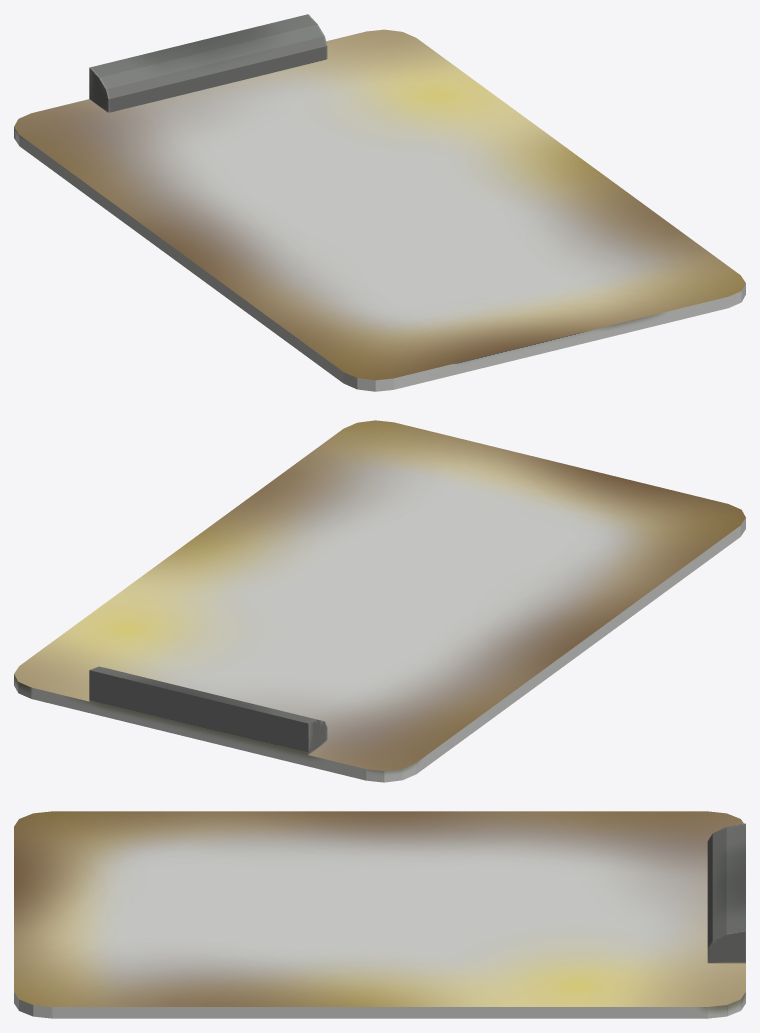
The model's file is ClipBoard-1.fbx.
3 renders of one model, top to bottom at view 1: azimuth 30°, elevation 25°; view 2: azimuth 150°, elevation 25°; view 3: azimuth 270°, elevation 25°, orthographic.
Parts seen in each view (by area): view 1: Cube.022; view 2: Cube.022; view 3: Cube.022.
Boxes of the visible parts, x1=… form: Cube.022: x1=14, y1=14, x2=745, y2=391; Cube.022: x1=14, y1=420, x2=745, y2=782; Cube.022: x1=14, y1=811, x2=745, y2=1018.
Size of the model in its own units: 337 by 34.84 by 533.
Materials: 1 (1 with a texture image).
